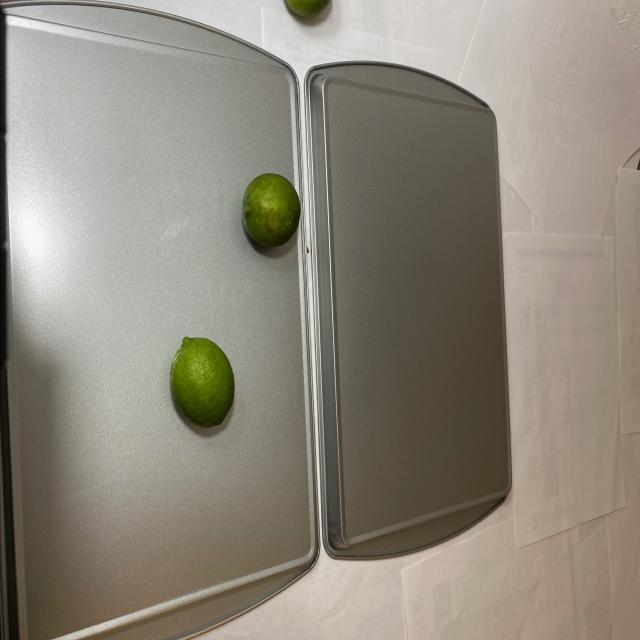lemon: (167, 330, 239, 430), (239, 166, 300, 254)
